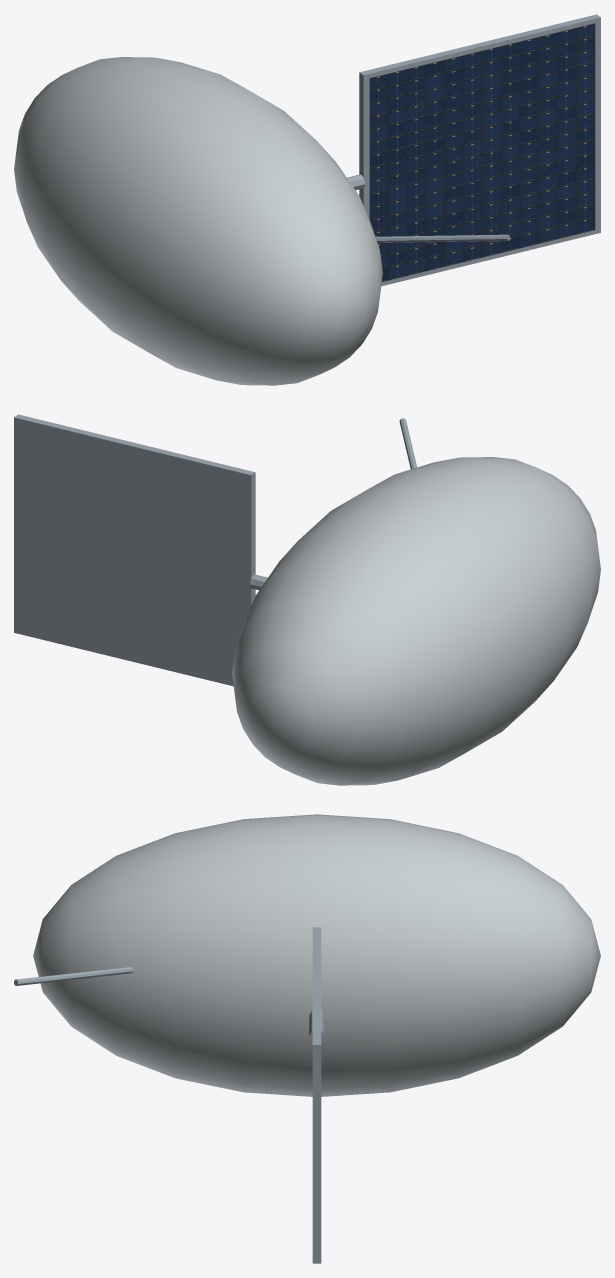
Rendered from ref-ds-u3-2848.glb.
3 renders of one model, top to bottom at view 1: azimuth 30°, elevation 25°; view 2: azimuth 150°, elevation 25°; view 3: azimuth 270°, elevation 25°, orthographic.
Visible parts, largest first — view 1: Spacecraft body, Photovoltaic laminates, Array frame, Antenna boom; view 2: Spacecraft body, Array frame; view 3: Spacecraft body, Array frame, Antenna boom.
Part boxes in pixels (<box>): Spacecraft body: <box>14,57,382,385</box>; Photovoltaic laminates: <box>369,23,595,281</box>; Array frame: <box>359,14,600,286</box>; Antenna boom: <box>375,234,509,242</box>; Spacecraft body: <box>232,457,600,785</box>; Array frame: <box>14,414,255,686</box>; Spacecraft body: <box>33,814,600,1096</box>; Array frame: <box>312,927,321,1263</box>; Antenna boom: <box>14,967,133,985</box>.
Bounding box in the file's own units: 2.8 × 1.3 × 2.69.
3 materials, 1 textured.
